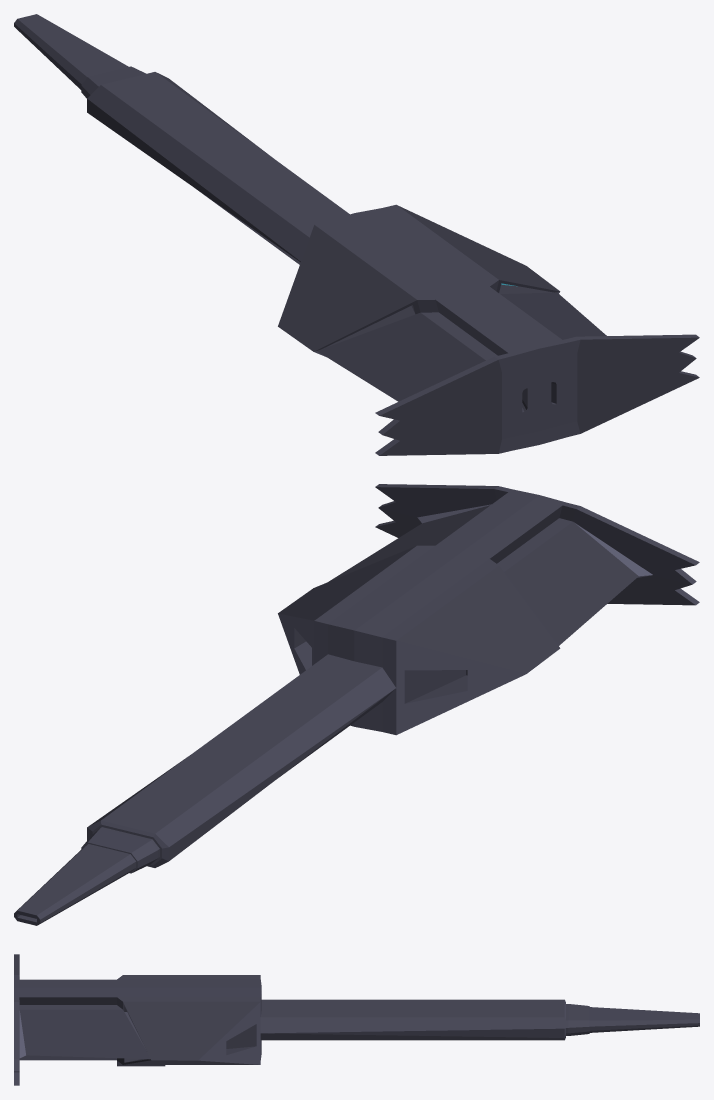
Rendered from RailGun_Jaeforzs.fbx.
The picture shows the model from 3 angles, top to bottom: view 1: azimuth 30°, elevation 25°; view 2: azimuth 150°, elevation 25°; view 3: azimuth 270°, elevation 25°; orthographic projection. The views are drawn at different scales.
Visible parts, largest first — view 1: Куб.002, Куб.001; view 2: Куб.002, Куб.001; view 3: Куб.002, Куб.001.
Part boxes in pixels (x1,y1,x2,y2): Куб.002: (278, 204, 699, 455); Куб.001: (14, 14, 349, 264); Куб.002: (278, 484, 699, 735); Куб.001: (14, 654, 395, 925); Куб.002: (14, 954, 261, 1085); Куб.001: (260, 999, 699, 1040).
Bounding box in the file's own units: 405 × 134 × 1119.
